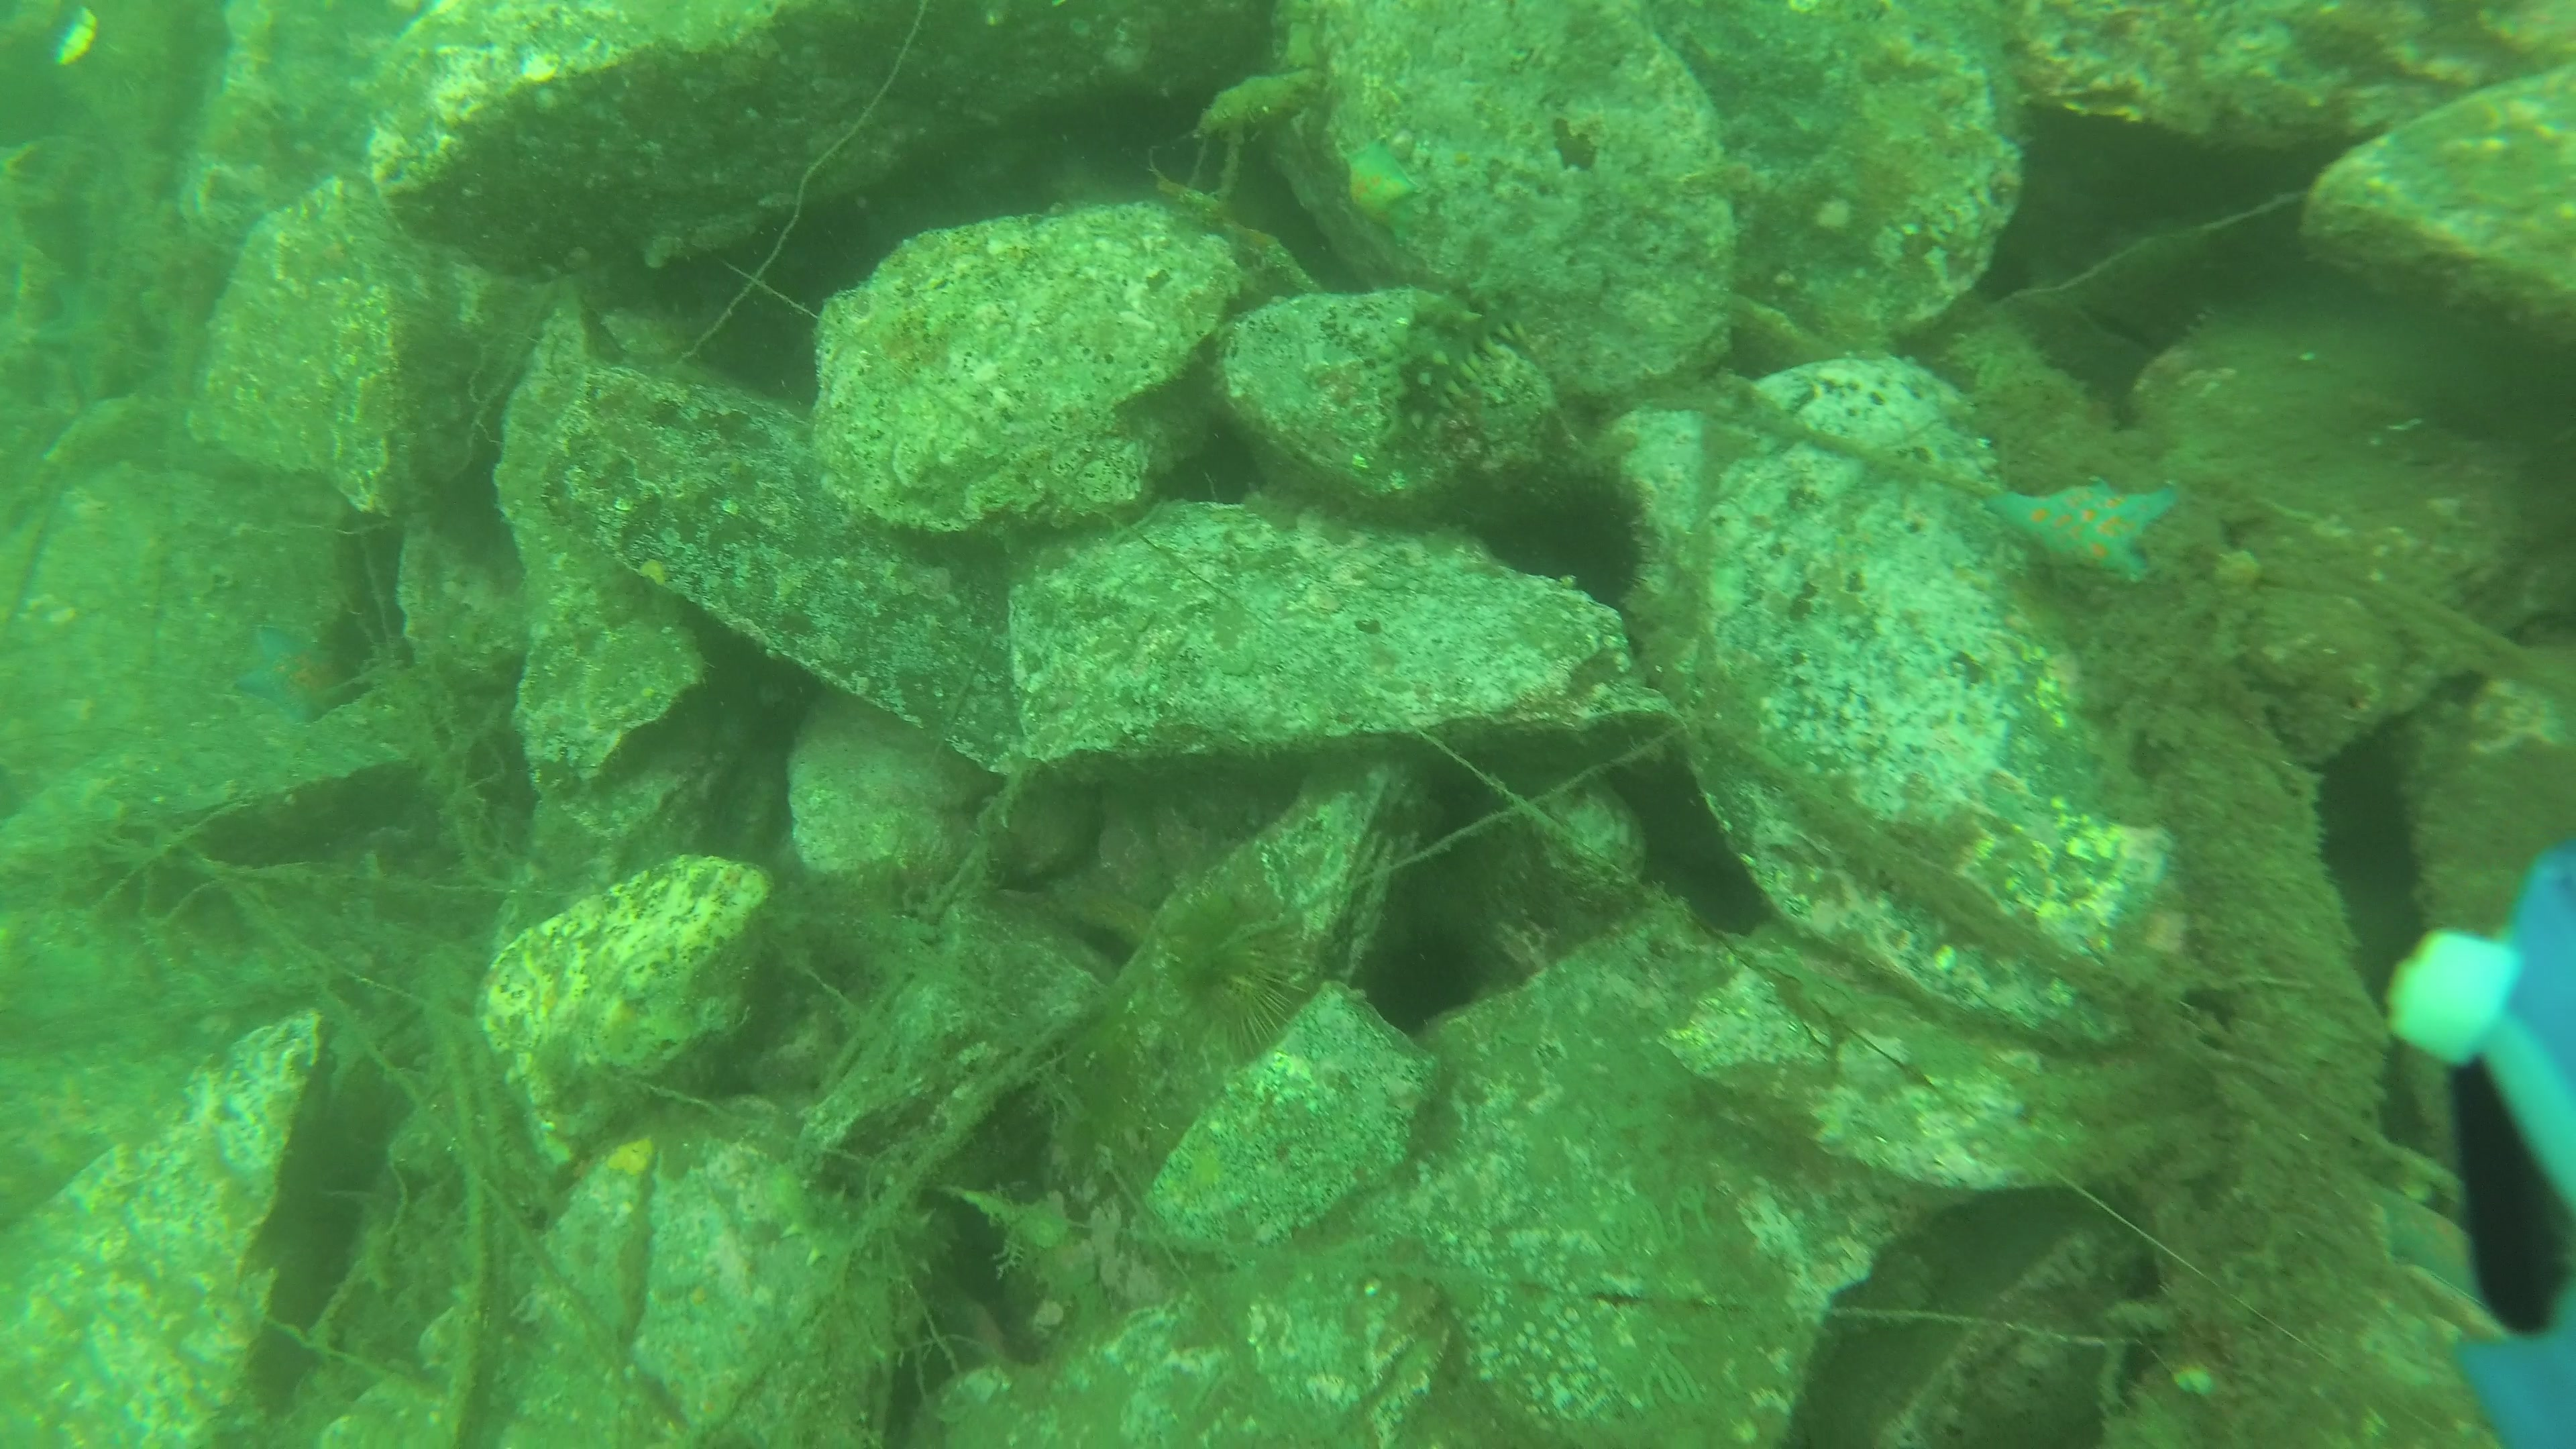echinus: (1150, 881, 1320, 1058), (1500, 456, 1660, 614)
starfish: (1985, 467, 2181, 591), (226, 617, 370, 731), (1332, 133, 1426, 234)
